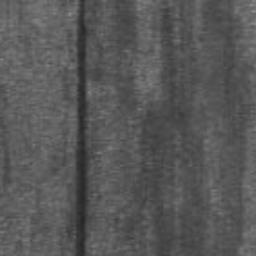Scratches: (72, 0, 88, 256)
